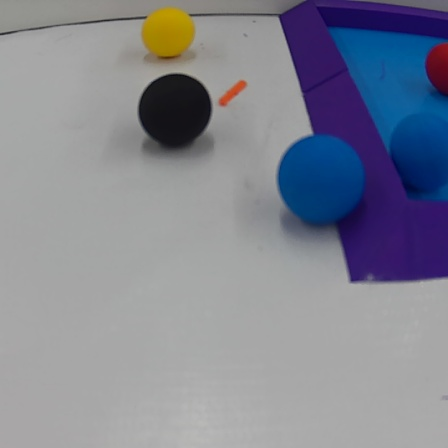black: (137, 71, 215, 156)
blue: (273, 132, 369, 229), (387, 113, 448, 197)
blue_aim: (277, 0, 447, 296)
red: (426, 43, 448, 97)
yellow: (143, 7, 198, 62)
